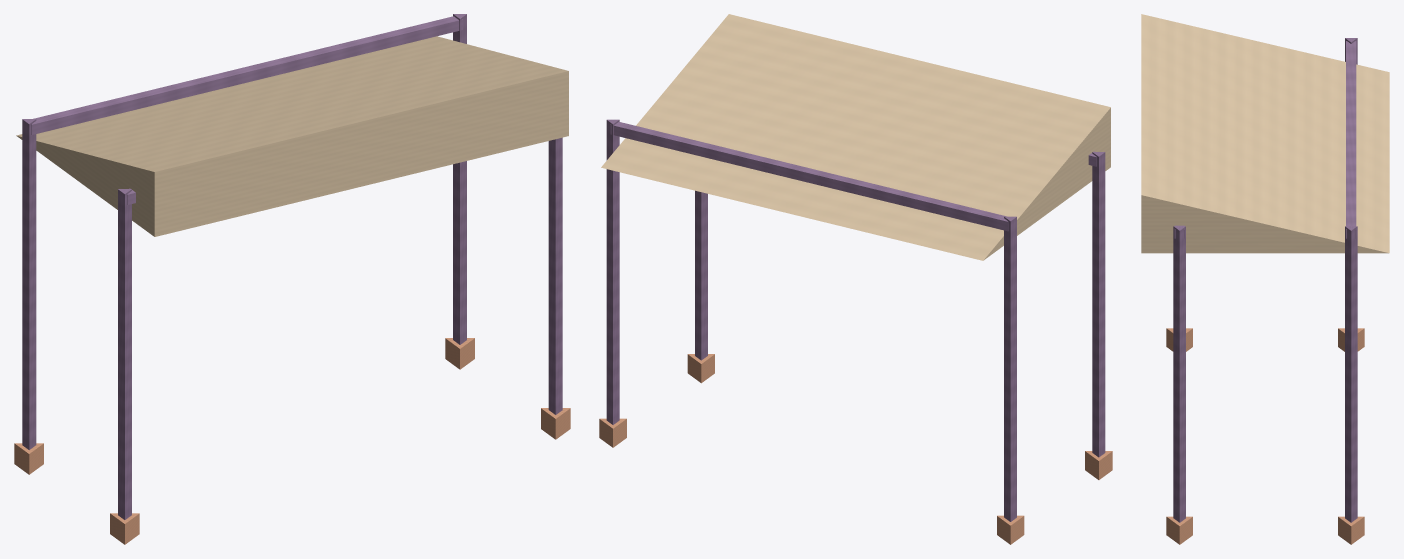
Rendered from atlas100-s081-a08.lod1.glb.
3 views of the same model, side by side, from view 1: azimuth 30°, elevation 25°; view 2: azimuth 150°, elevation 25°; view 3: azimuth 270°, elevation 25° (orthographic). The views are drawn at different scales.
Parts seen in each view (by area): view 1: atlas100-s081-a08:part-010, atlas100-s081-a08:part-011, atlas100-s081-a08:part-012, atlas100-s081-a08:part-014, atlas100-s081-a08:part-013, atlas100-s081-a08:part-008, atlas100-s081-a08:part-000, atlas100-s081-a08:part-002, atlas100-s081-a08:part-006, atlas100-s081-a08:part-004, atlas100-s081-a08:part-001, atlas100-s081-a08:part-003 (+2 smaller); view 2: atlas100-s081-a08:part-010, atlas100-s081-a08:part-012, atlas100-s081-a08:part-013, atlas100-s081-a08:part-011, atlas100-s081-a08:part-014, atlas100-s081-a08:part-008, atlas100-s081-a08:part-002, atlas100-s081-a08:part-004, atlas100-s081-a08:part-000, atlas100-s081-a08:part-006, atlas100-s081-a08:part-005, atlas100-s081-a08:part-001 (+2 smaller); view 3: atlas100-s081-a08:part-014, atlas100-s081-a08:part-010, atlas100-s081-a08:part-013, atlas100-s081-a08:part-012, atlas100-s081-a08:part-011, atlas100-s081-a08:part-004, atlas100-s081-a08:part-006, atlas100-s081-a08:part-008, atlas100-s081-a08:part-005, atlas100-s081-a08:part-007, atlas100-s081-a08:part-001, atlas100-s081-a08:part-003.
Boxes of the visible parts, left/top/right/bottom form: atlas100-s081-a08:part-010: left=16, top=117, right=237, bottom=236; atlas100-s081-a08:part-011: left=106, top=97, right=320, bottom=216; atlas100-s081-a08:part-012: left=189, top=76, right=403, bottom=196; atlas100-s081-a08:part-014: left=354, top=36, right=568, bottom=156; atlas100-s081-a08:part-013: left=272, top=56, right=485, bottom=176; atlas100-s081-a08:part-008: left=31, top=16, right=462, bottom=134; atlas100-s081-a08:part-000: left=22, top=119, right=36, bottom=449; atlas100-s081-a08:part-002: left=118, top=189, right=131, bottom=519; atlas100-s081-a08:part-006: left=548, top=137, right=562, bottom=414; atlas100-s081-a08:part-004: left=453, top=14, right=466, bottom=344; atlas100-s081-a08:part-001: left=14, top=443, right=43, bottom=474; atlas100-s081-a08:part-003: left=110, top=513, right=139, bottom=544; atlas100-s081-a08:part-010: left=907, top=88, right=1110, bottom=260; atlas100-s081-a08:part-012: left=754, top=51, right=957, bottom=223; atlas100-s081-a08:part-013: left=677, top=32, right=881, bottom=204; atlas100-s081-a08:part-011: left=830, top=70, right=1034, bottom=242; atlas100-s081-a08:part-014: left=601, top=14, right=804, bottom=185; atlas100-s081-a08:part-008: left=610, top=122, right=1008, bottom=231; atlas100-s081-a08:part-002: left=1092, top=152, right=1105, bottom=457; atlas100-s081-a08:part-004: left=606, top=119, right=619, bottom=424; atlas100-s081-a08:part-000: left=1004, top=216, right=1016, bottom=521; atlas100-s081-a08:part-006: left=695, top=190, right=707, bottom=360; atlas100-s081-a08:part-005: left=599, top=418, right=626, bottom=447; atlas100-s081-a08:part-001: left=997, top=515, right=1024, bottom=544; atlas100-s081-a08:part-014: left=1141, top=159, right=1389, bottom=253; atlas100-s081-a08:part-010: left=1141, top=14, right=1389, bottom=108; atlas100-s081-a08:part-013: left=1141, top=122, right=1389, bottom=216; atlas100-s081-a08:part-012: left=1141, top=86, right=1389, bottom=180; atlas100-s081-a08:part-011: left=1141, top=50, right=1389, bottom=144; atlas100-s081-a08:part-004: left=1345, top=226, right=1357, bottom=522; atlas100-s081-a08:part-006: left=1173, top=226, right=1185, bottom=522; atlas100-s081-a08:part-008: left=1346, top=41, right=1356, bottom=238; atlas100-s081-a08:part-005: left=1338, top=516, right=1364, bottom=544; atlas100-s081-a08:part-007: left=1166, top=516, right=1192, bottom=544; atlas100-s081-a08:part-001: left=1338, top=328, right=1364, bottom=351; atlas100-s081-a08:part-003: left=1166, top=328, right=1192, bottom=351.
Size of the model in its own units: 5.47 by 4.38 by 2.9.
Materials: 3 (3 with a texture image).
